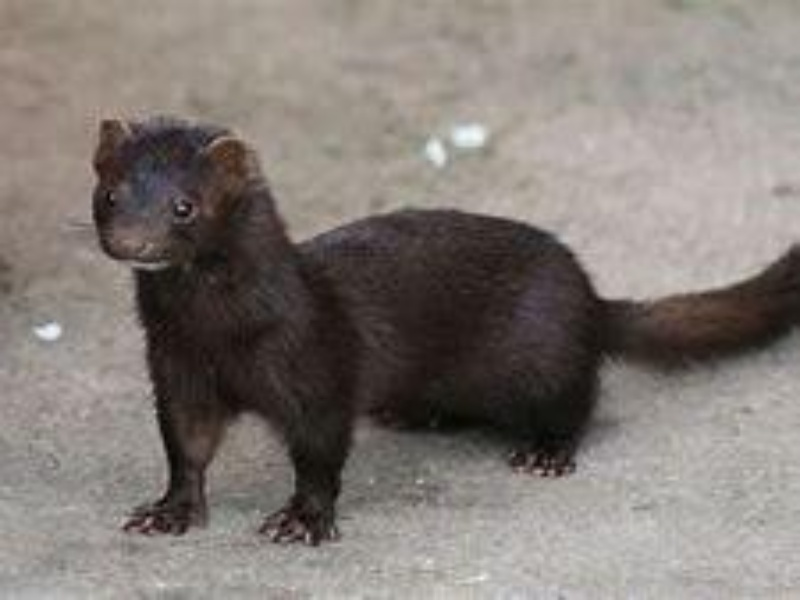minkish: (87, 109, 800, 551)
